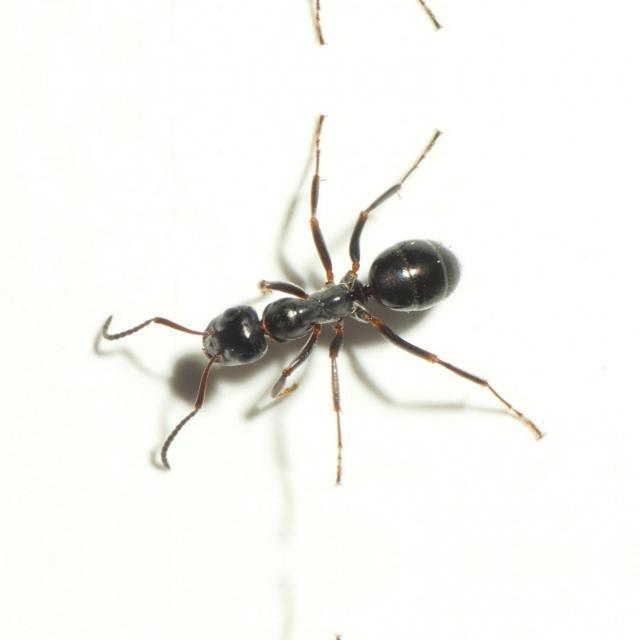Formica: (156, 200, 489, 402)
